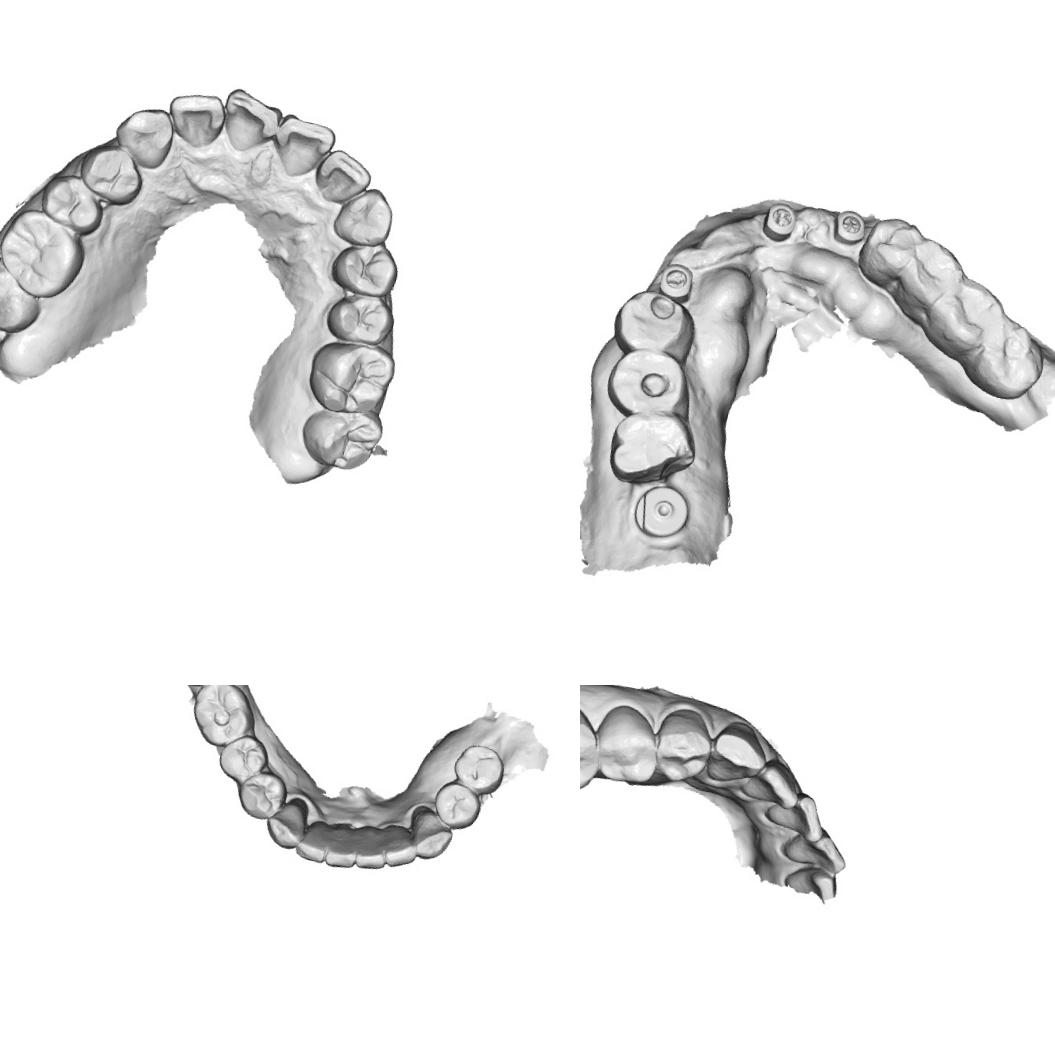canine: (701, 715, 772, 794), (109, 100, 179, 172), (330, 180, 398, 252), (260, 792, 312, 852), (404, 804, 456, 863)
implant: (626, 482, 694, 542), (758, 198, 800, 246), (654, 259, 697, 304), (828, 205, 869, 249)
incisor: (266, 110, 339, 185), (216, 84, 287, 154), (162, 85, 230, 152), (309, 145, 375, 212), (778, 822, 854, 878), (761, 785, 830, 843), (737, 752, 802, 813), (322, 819, 361, 871), (292, 816, 332, 864), (353, 823, 391, 872), (380, 829, 420, 871)
molar: (599, 402, 700, 494), (0, 205, 89, 306), (302, 330, 399, 422), (920, 272, 1010, 364), (963, 315, 1050, 406), (294, 397, 386, 476), (185, 685, 261, 752), (0, 254, 52, 341), (580, 690, 607, 803)
premolar: (600, 340, 699, 420), (584, 699, 669, 790), (609, 284, 700, 360), (648, 702, 718, 789), (854, 212, 924, 292), (898, 235, 968, 314), (36, 168, 116, 236), (72, 138, 148, 209), (327, 233, 404, 300), (321, 286, 398, 350), (448, 740, 509, 796), (232, 765, 290, 823), (428, 776, 485, 834), (214, 730, 272, 786)
